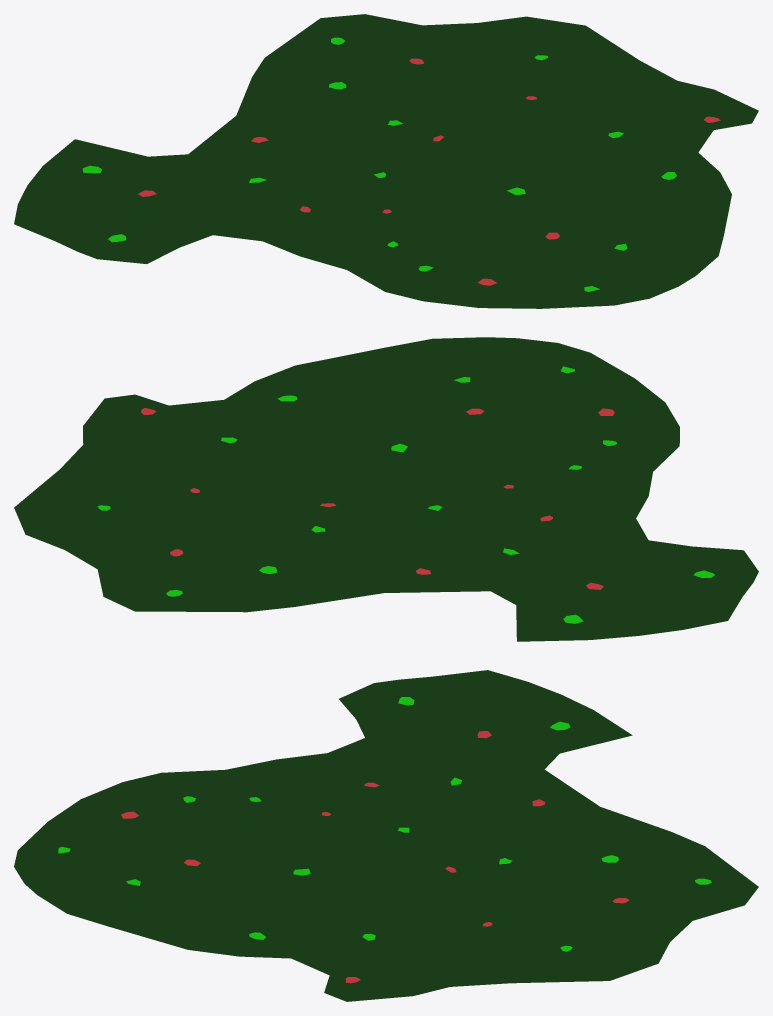
Rendered from Stains.5.fbx.
3 views of the same model, one above another, from view 1: azimuth 30°, elevation 25°; view 2: azimuth 150°, elevation 25°; view 3: azimuth 270°, elevation 25° (orthographic). The views are drawn at different scales.
Parts seen in each view (by area): view 1: Plane; view 2: Plane; view 3: Plane.
Part boxes in pixels (x1=…): Plane: x1=14, y1=14, x2=758, y2=308; Plane: x1=14, y1=337, x2=758, y2=641; Plane: x1=14, y1=670, x2=758, y2=1001.
Bounding box in the file's own units: 120 × 0.000206 × 114.
